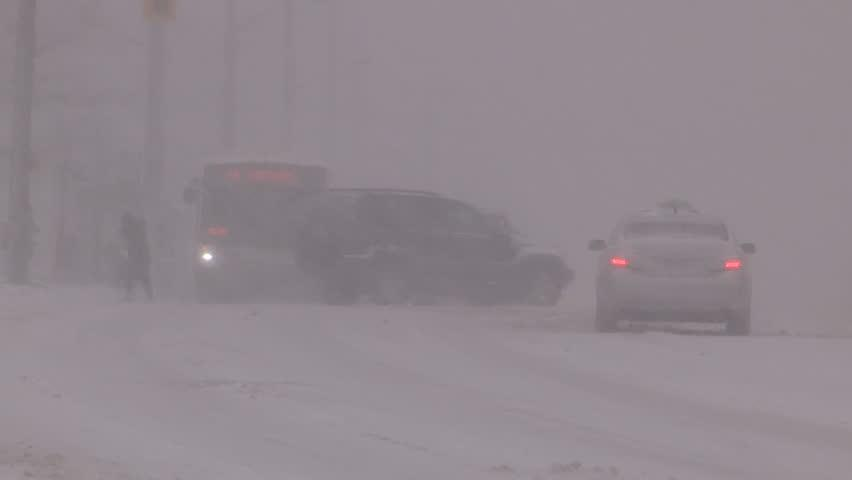airplane: (182, 160, 567, 297)
baseball bat: (186, 161, 568, 295)
bench: (180, 162, 584, 305)
boat: (186, 161, 568, 295)
bus: (193, 167, 451, 292), (185, 159, 331, 299), (182, 164, 252, 300)
car: (182, 160, 567, 297), (188, 159, 346, 300), (595, 211, 752, 332), (175, 168, 271, 295), (602, 209, 695, 269), (185, 170, 229, 294), (646, 214, 752, 264), (608, 210, 731, 249), (593, 219, 655, 280), (589, 235, 633, 318), (193, 212, 232, 302), (607, 206, 698, 238), (635, 216, 730, 241), (588, 235, 627, 281), (592, 246, 617, 315), (607, 214, 664, 244), (193, 224, 229, 268), (709, 222, 752, 258), (596, 226, 634, 266), (588, 235, 611, 301), (596, 249, 630, 290), (607, 254, 633, 307), (601, 246, 631, 275), (586, 236, 612, 267), (653, 198, 698, 214), (608, 256, 632, 281), (197, 242, 215, 267), (207, 223, 230, 241), (607, 254, 632, 270), (587, 236, 607, 252), (722, 257, 743, 271), (738, 241, 756, 255)
chair: (113, 208, 154, 301)
kite: (180, 162, 584, 305)
parking meter: (185, 170, 237, 299), (193, 215, 228, 298), (588, 235, 611, 291), (587, 237, 608, 269), (197, 242, 215, 269)
person: (188, 161, 572, 298), (191, 163, 336, 331), (186, 176, 236, 301), (117, 210, 154, 301), (192, 217, 228, 301), (122, 212, 147, 280), (194, 241, 217, 302), (198, 243, 215, 272)
skateboard: (182, 160, 567, 297)
skis: (182, 160, 567, 297)
snowboard: (182, 160, 567, 297)
surfboard: (186, 161, 568, 295)
tennis racket: (182, 160, 567, 297)
traffic light: (193, 215, 228, 298), (197, 242, 215, 267)
truck: (178, 159, 530, 295), (185, 159, 331, 299), (588, 206, 747, 327), (182, 164, 252, 300), (608, 210, 731, 249), (653, 198, 698, 214)
